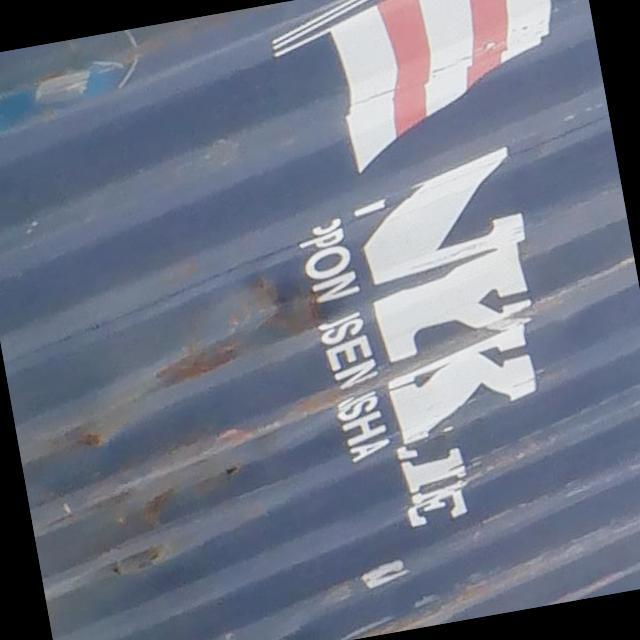rust: (37, 226, 413, 487)
